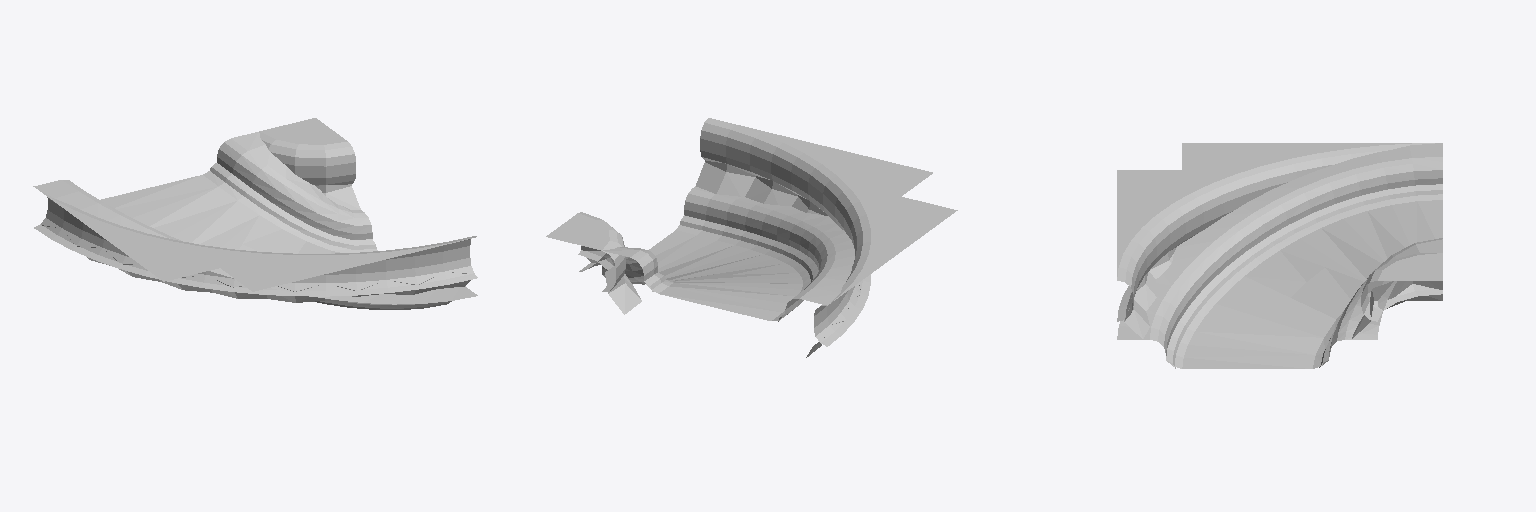
File: Track_Cliff_Curve_Striped_Double_5x5.obj
3 renders of one model, left to right at view 1: azimuth 30°, elevation 25°; view 2: azimuth 150°, elevation 25°; view 3: azimuth 270°, elevation 25°, orthographic.
Visible parts, largest first — view 1: Grass, Dirt, Rock, Raceline_Color_1, Raceline_Color_2; view 2: Grass, Dirt, Rock, Raceline_Color_1, Raceline_Color_2; view 3: Grass, Dirt, Rock, Raceline_Color_2, Raceline_Color_1.
Boxes of the visible parts, x1,y1,x2,y2 form: Grass: [33, 118, 477, 304]; Dirt: [100, 171, 451, 308]; Rock: [42, 184, 470, 302]; Raceline_Color_1: [225, 174, 448, 309]; Raceline_Color_2: [210, 163, 425, 309]; Grass: [546, 118, 957, 346]; Dirt: [603, 225, 810, 320]; Rock: [581, 160, 860, 357]; Raceline_Color_1: [642, 215, 818, 284]; Raceline_Color_2: [631, 221, 817, 321]; Grass: [1117, 143, 1442, 356]; Dirt: [1167, 194, 1442, 368]; Rock: [1124, 231, 1442, 338]; Raceline_Color_2: [1168, 184, 1442, 353]; Raceline_Color_1: [1166, 186, 1415, 368].
Bounding box in the file's own units: 5 × 1.5 × 5.